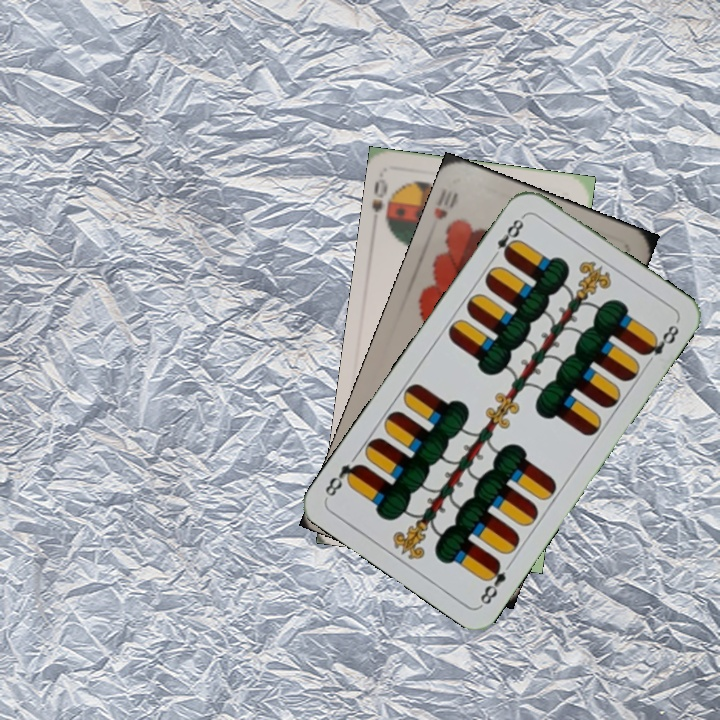E8: (487, 211, 528, 263), (476, 556, 509, 608)
H10: (430, 188, 461, 222)
SO: (368, 175, 398, 234)
